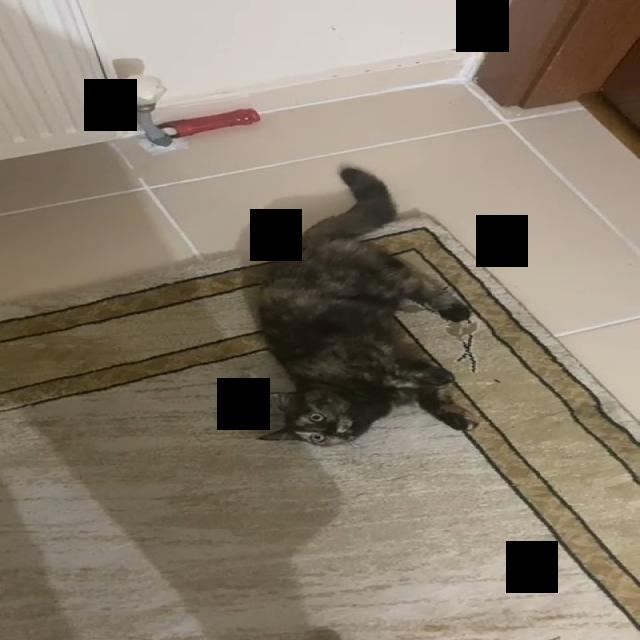authorized: (251, 164, 477, 447)
